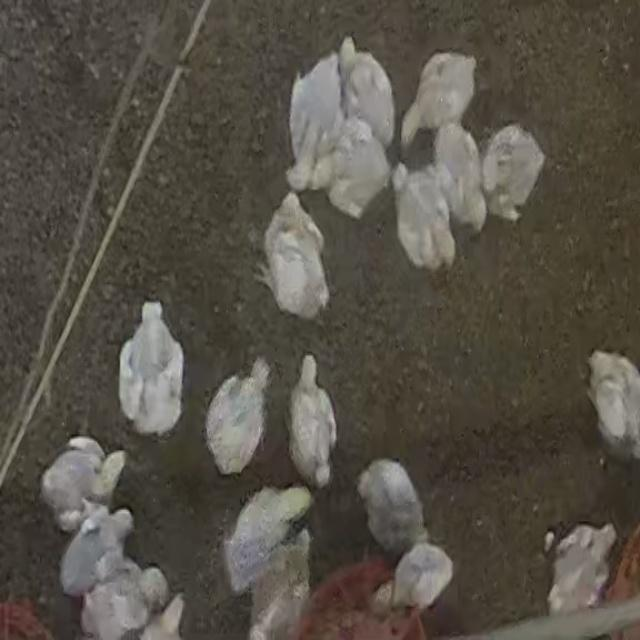chicken: (224, 482, 314, 596), (258, 192, 330, 322), (117, 300, 184, 436), (286, 50, 348, 194), (40, 437, 123, 535), (204, 358, 272, 476), (399, 50, 476, 153), (80, 561, 173, 640), (391, 161, 457, 271), (59, 504, 137, 597), (323, 118, 392, 222), (338, 38, 398, 153), (544, 522, 618, 615), (586, 348, 640, 469), (288, 355, 336, 488), (480, 124, 545, 222), (432, 123, 488, 235), (359, 462, 429, 544), (378, 542, 454, 605)
